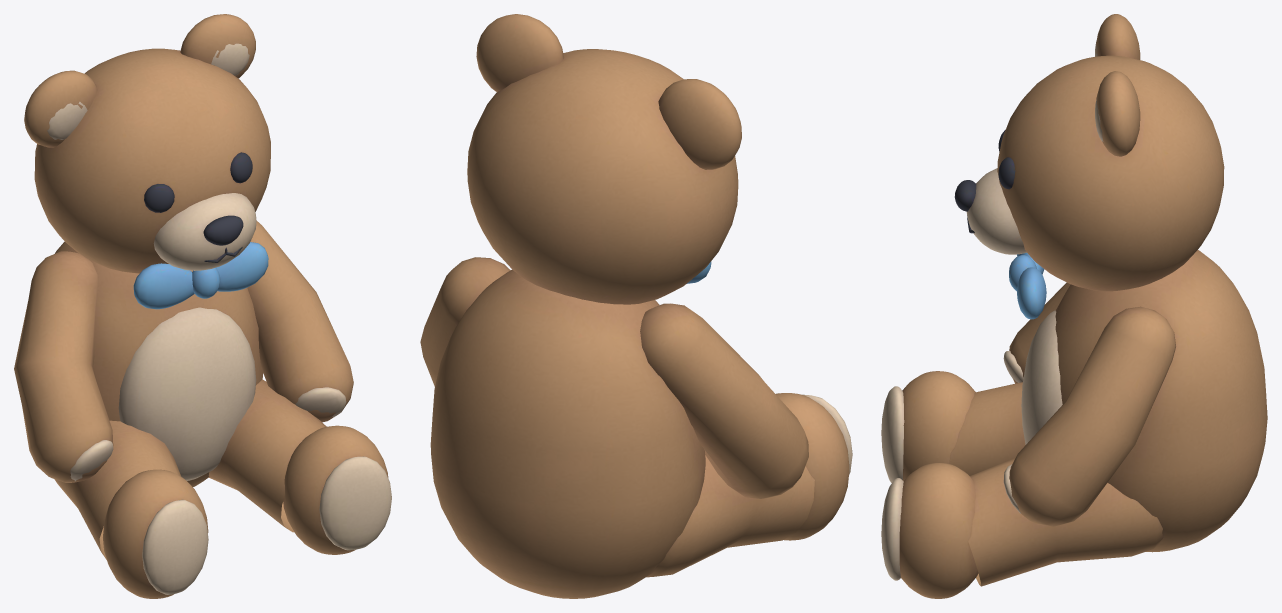
Rendered from tamim-teddy.glb.
3 renders of one model, left to right at view 1: azimuth 30°, elevation 25°; view 2: azimuth 150°, elevation 25°; view 3: azimuth 270°, elevation 25°, orthographic. The views are drawn at different scales.
Visible parts, largest first — view 1: teddy-bear_body; view 2: teddy-bear_body; view 3: teddy-bear_body.
Part boxes in pixels (box(x1,y1,x2,y2)): teddy-bear_body: box(14, 14, 391, 598); teddy-bear_body: box(420, 14, 852, 598); teddy-bear_body: box(881, 14, 1267, 598).
Bounding box in the file's own units: 0.2195 × 0.3217 × 0.2242.
Materials: 1 (1 with a texture image).
